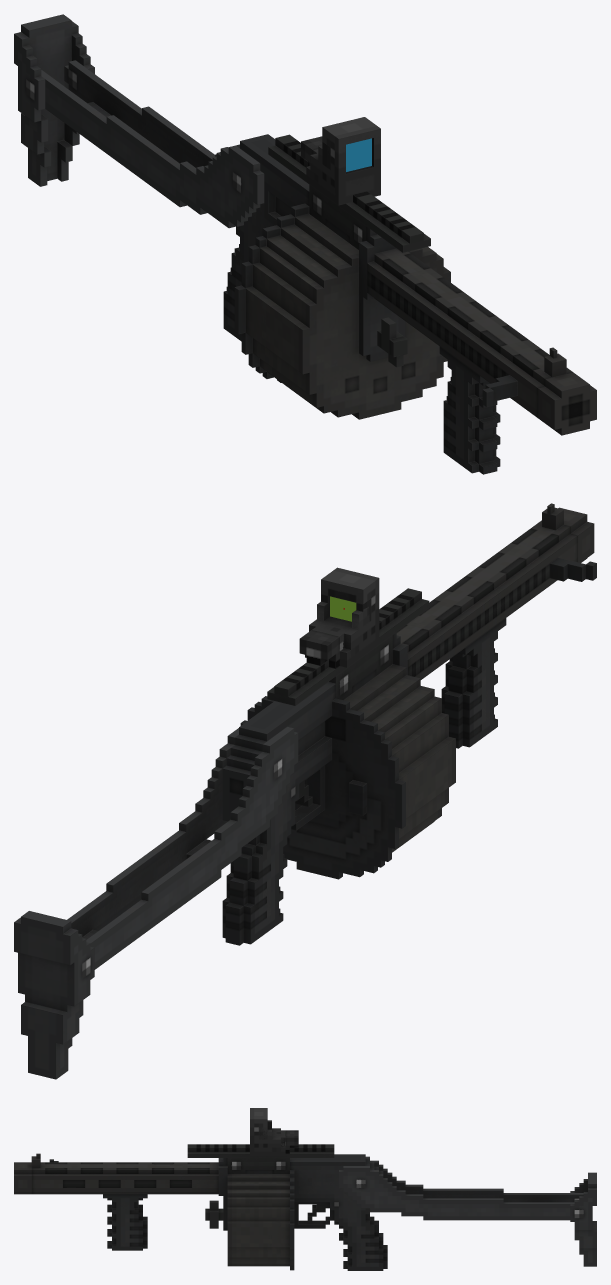
File: RD_STRIKER.glb
3 renders of one model, top to bottom at view 1: azimuth 30°, elevation 25°; view 2: azimuth 150°, elevation 25°; view 3: azimuth 270°, elevation 25°, orthographic. The views are drawn at different scales.
Visible parts, largest first — view 1: STRIKER, STRIKER_STOCK_P1 (×2), SCOPE_HOLOSUN, STRIKER_PLANK (1), STRIKER_CLIP, STRIKER_PLANK, STRIKER_BOLT; view 2: STRIKER, STRIKER_STOCK_P1 (×2), SCOPE_HOLOSUN, STRIKER_PLANK (1), SCOPE_AIMPOINT, STRIKER_PLANK, STRIKER_BOLT; view 3: STRIKER, STRIKER_STOCK_P1 (×2), STRIKER_PLANK (1), SCOPE_HOLOSUN, STRIKER_PLANK, STRIKER_CLIP, SCOPE_AIMPOINT.
Part boxes in pixels (x1,y1,x2,y2): STRIKER: [223, 134, 596, 474]; STRIKER_STOCK_P1 (×2): [14, 14, 264, 228]; SCOPE_HOLOSUN: [306, 117, 380, 205]; STRIKER_PLANK (1): [268, 134, 430, 252]; STRIKER_CLIP: [377, 317, 407, 367]; STRIKER_PLANK: [275, 138, 430, 252]; STRIKER_BOLT: [482, 375, 517, 407]; STRIKER: [222, 503, 594, 945]; STRIKER_STOCK_P1 (×2): [14, 726, 298, 1079]; SCOPE_HOLOSUN: [305, 567, 379, 667]; STRIKER_PLANK (1): [267, 588, 429, 705]; SCOPE_AIMPOINT: [299, 588, 371, 668]; STRIKER_PLANK: [267, 592, 429, 705]; STRIKER_BOLT: [549, 557, 596, 581]; STRIKER: [14, 1153, 387, 1270]; STRIKER_STOCK_P1 (×2): [339, 1156, 596, 1266]; STRIKER_PLANK (1): [187, 1144, 334, 1157]; SCOPE_HOLOSUN: [250, 1108, 285, 1155]; STRIKER_PLANK: [187, 1148, 334, 1157]; STRIKER_CLIP: [205, 1200, 223, 1228]; SCOPE_AIMPOINT: [259, 1128, 298, 1153].
Size of the model in its own units: 0.2362 by 0.3739 by 1.29.
5 materials, 5 textured.
